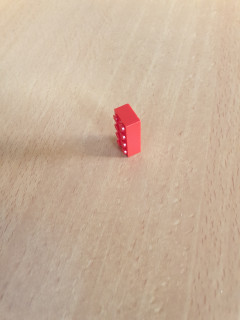2x4 red: (112, 103, 148, 160)
